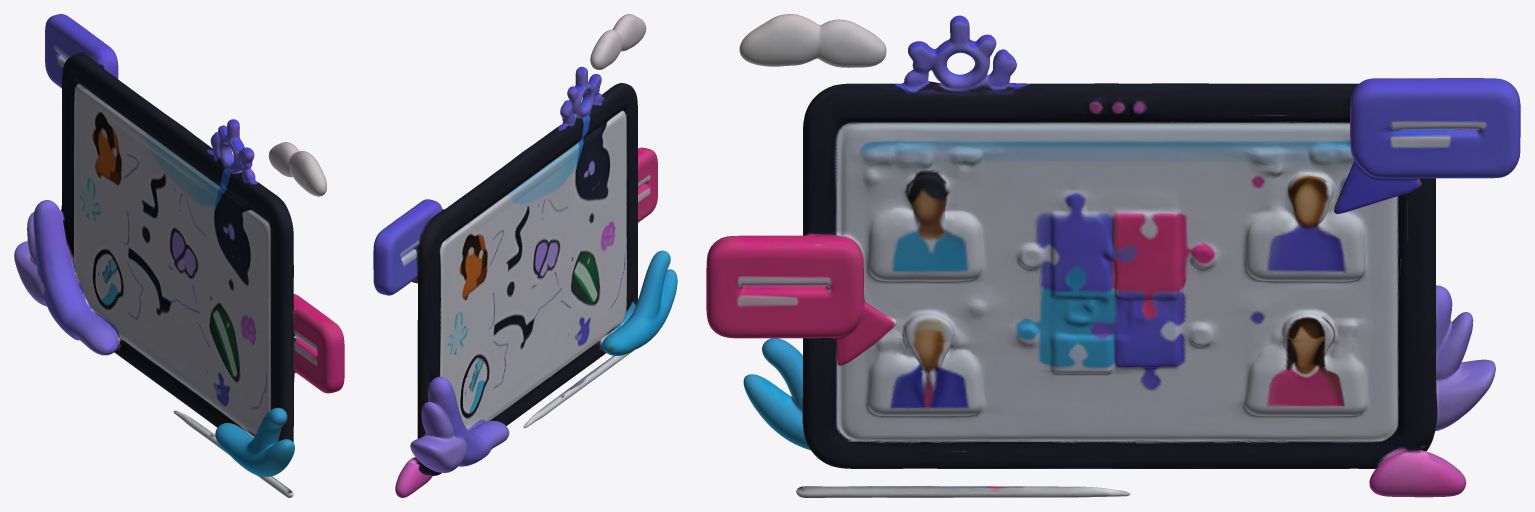
The picture shows the model from 3 angles, left to right: view 1: azimuth 30°, elevation 25°; view 2: azimuth 150°, elevation 25°; view 3: azimuth 270°, elevation 25°; orthographic projection. The views are drawn at different scales.
Visible parts, largest first — view 1: tripo_node_84ab8e07-9ac1-4435-b368-0d4cdeda77c7; view 2: tripo_node_84ab8e07-9ac1-4435-b368-0d4cdeda77c7; view 3: tripo_node_84ab8e07-9ac1-4435-b368-0d4cdeda77c7.
Boxes of the visible parts, x1,y1,x2,y2 form: tripo_node_84ab8e07-9ac1-4435-b368-0d4cdeda77c7: [14, 14, 344, 497]; tripo_node_84ab8e07-9ac1-4435-b368-0d4cdeda77c7: [373, 14, 677, 497]; tripo_node_84ab8e07-9ac1-4435-b368-0d4cdeda77c7: [706, 14, 1520, 497].
Size of the model in its own units: 0.1132 by 0.6005 by 0.903.
1 material, 1 textured.
